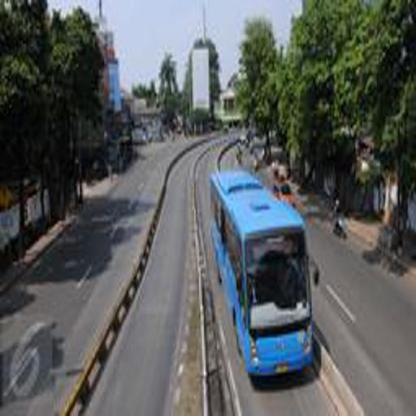bus: (205, 168, 321, 385)
car: (270, 175, 304, 211)
motorbike: (331, 210, 352, 243)
